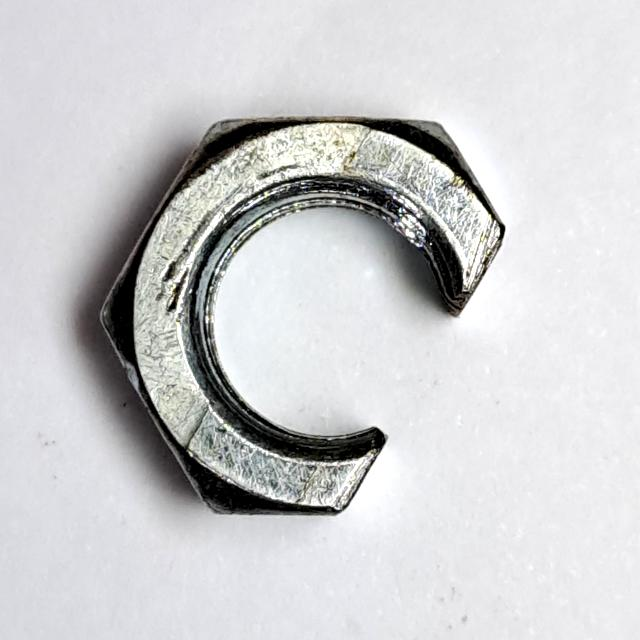Fracture: (87, 87, 519, 536)
